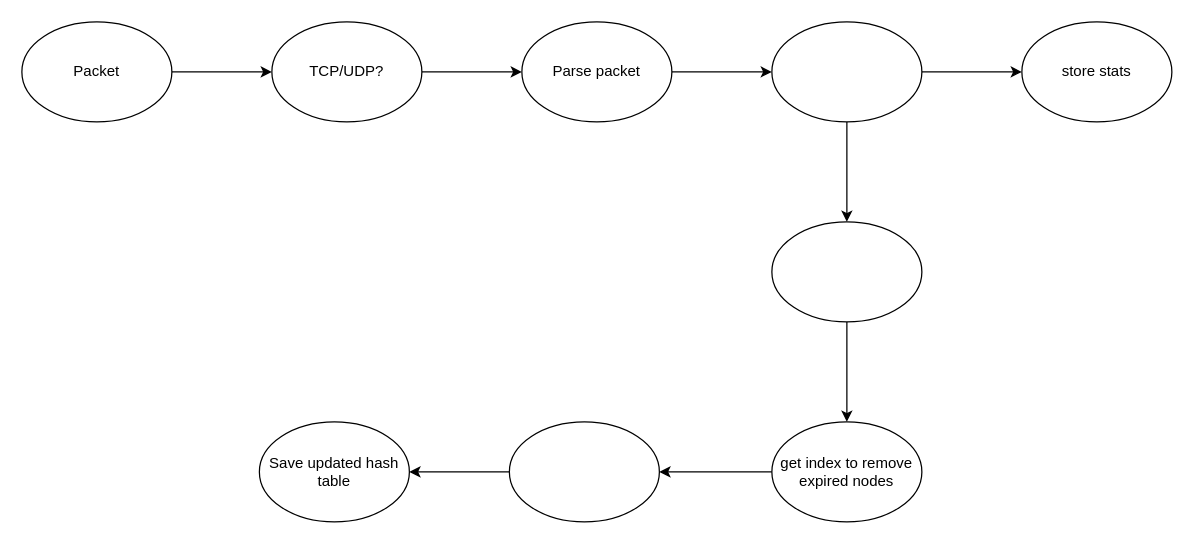
Image size: 1194x544. Some labels were removed from this diagram. Each missing label, with the box of its shape:
Index = hash(): (771, 21, 922, 122)
Insert Index, timestamp to list: (771, 221, 922, 322)
Remove stats from hash table: (508, 421, 659, 522)
